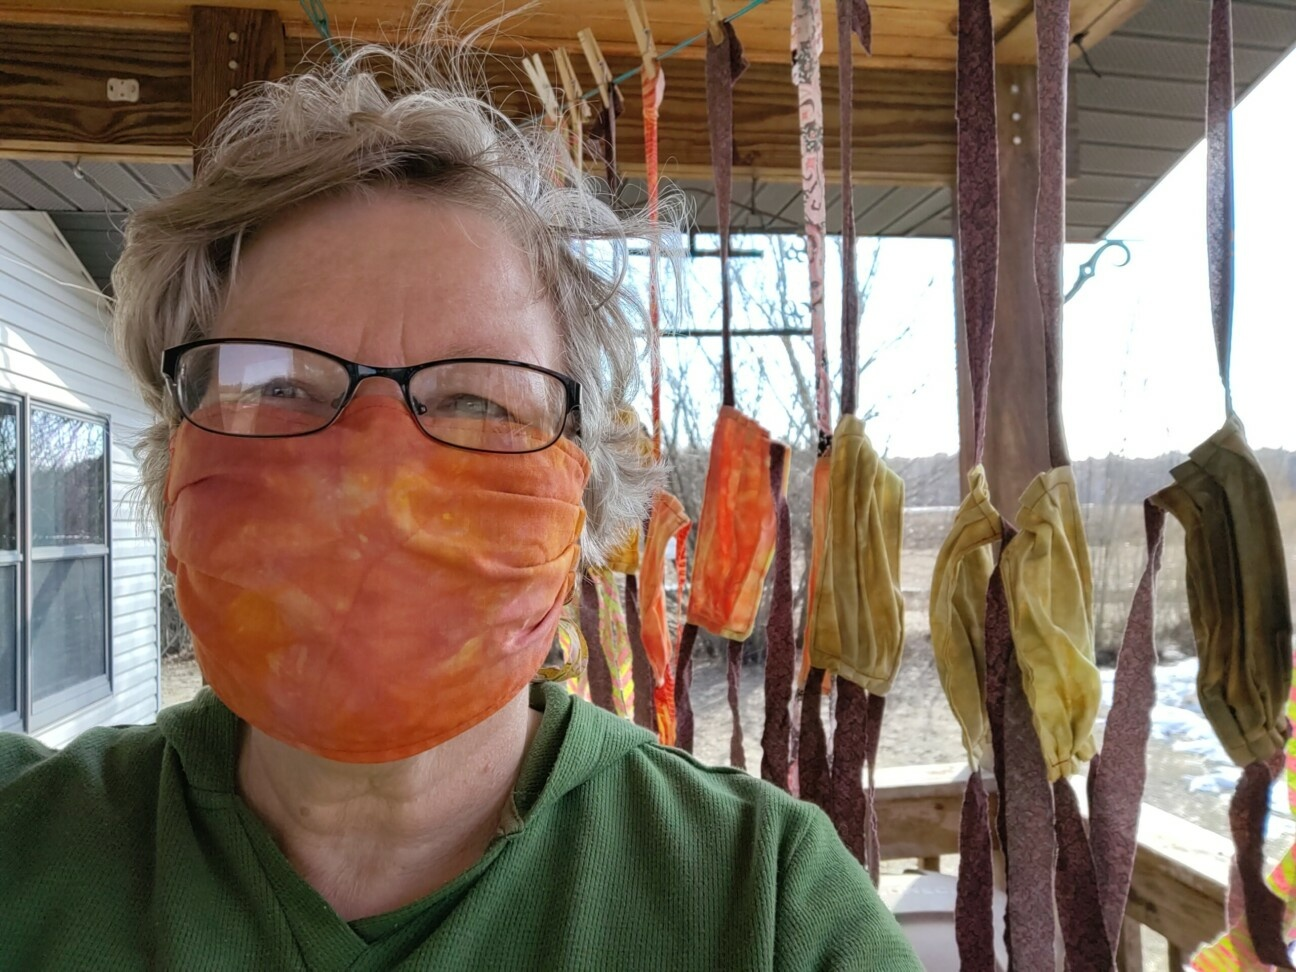with_mask: (128, 192, 605, 780)
